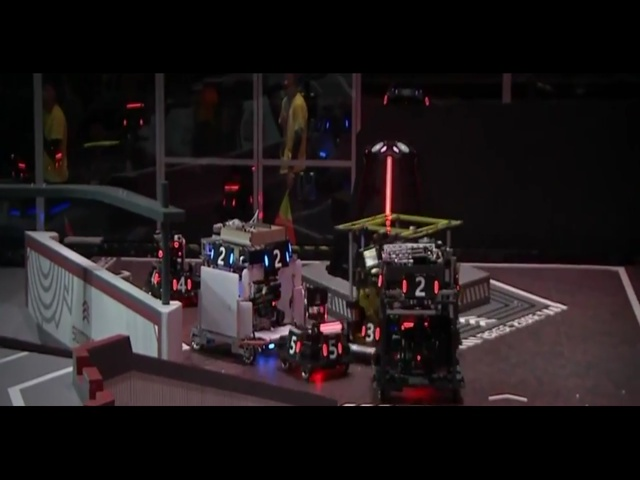bestBluePlate: (239, 189, 282, 232)
bestRedPlate: (262, 332, 326, 396)
bluePlate: (393, 335, 433, 375), (268, 115, 307, 154)
